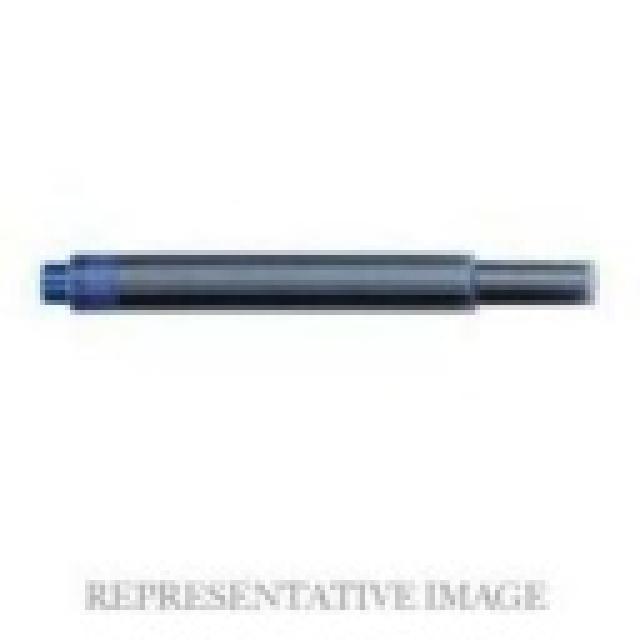pen: (32, 240, 620, 330)
